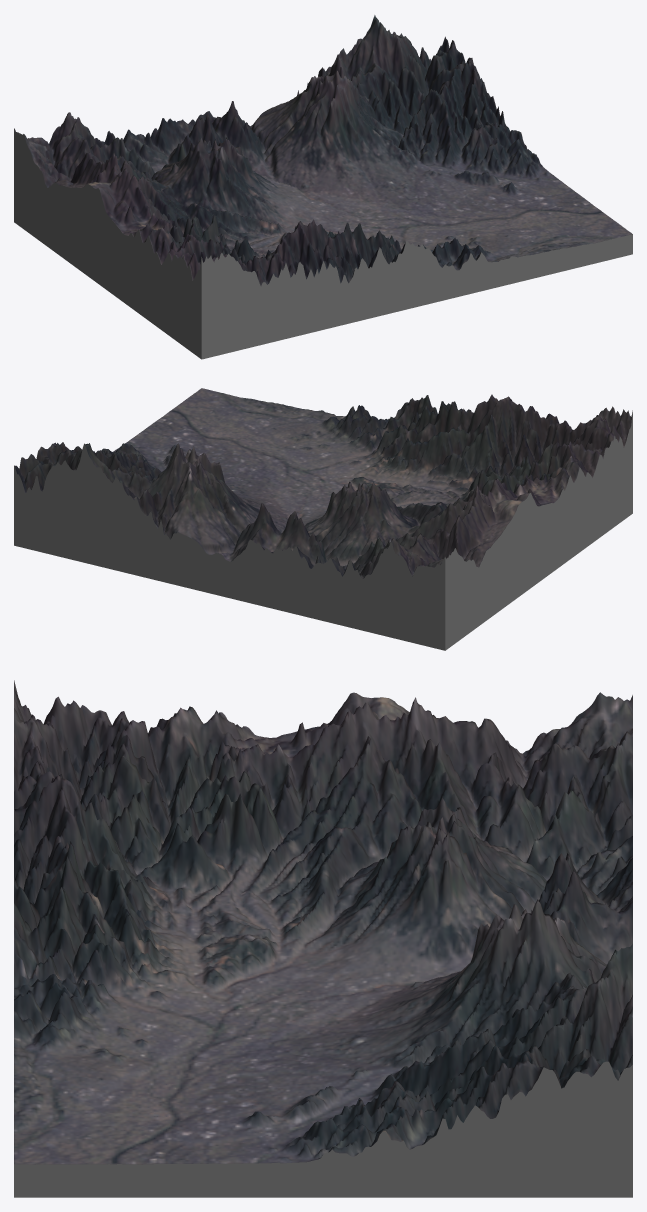
File: takasaki-s.glb
3 renders of one model, top to bottom at view 1: azimuth 30°, elevation 25°; view 2: azimuth 150°, elevation 25°; view 3: azimuth 270°, elevation 25°, orthographic. The views are drawn at different scales.
Visible parts, largest first — view 1: takasaki-s; view 2: takasaki-s; view 3: takasaki-s.
Part boxes in pixels (x1,y1,x2,y2): takasaki-s: (14,15,632,359); takasaki-s: (14,388,632,650); takasaki-s: (14,680,632,1197).
Bounding box in the file's own units: 27.6 × 7.32 × 20.8.
Materials: 2 (1 with a texture image).
